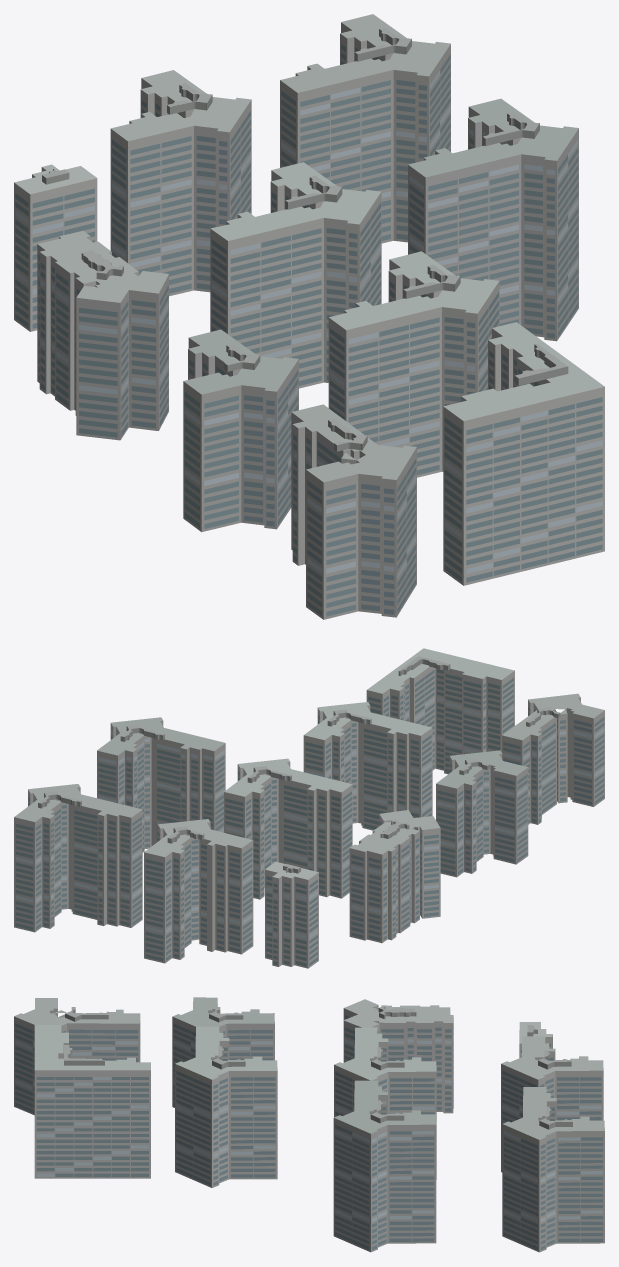
The model's file is apt-a10027602.glb.
3 renders of one model, top to bottom at view 1: azimuth 30°, elevation 25°; view 2: azimuth 150°, elevation 25°; view 3: azimuth 270°, elevation 25°, orthographic. The views are drawn at different scales.
Parts seen in each view (by area): view 1: apt-a10027602; view 2: apt-a10027602; view 3: apt-a10027602.
Part boxes in pixels (x1=…): apt-a10027602: x1=14, y1=14, x2=604, y2=619; apt-a10027602: x1=14, y1=648, x2=604, y2=968; apt-a10027602: x1=14, y1=997, x2=604, y2=1252.
Size of the model in its own units: 171 by 60 by 260.
